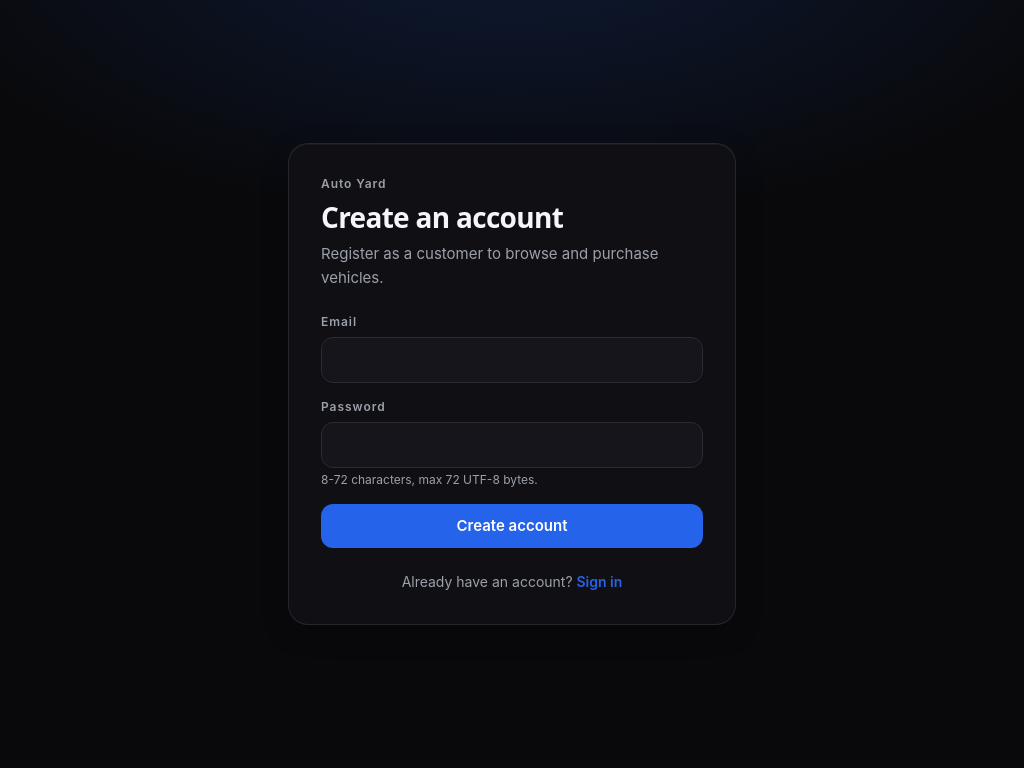
it: RegisterPage › shows the generic server error message and a retry control
Type "test@example.com" into the field labelled "Email" at (512, 360), box [321,337,703,383]
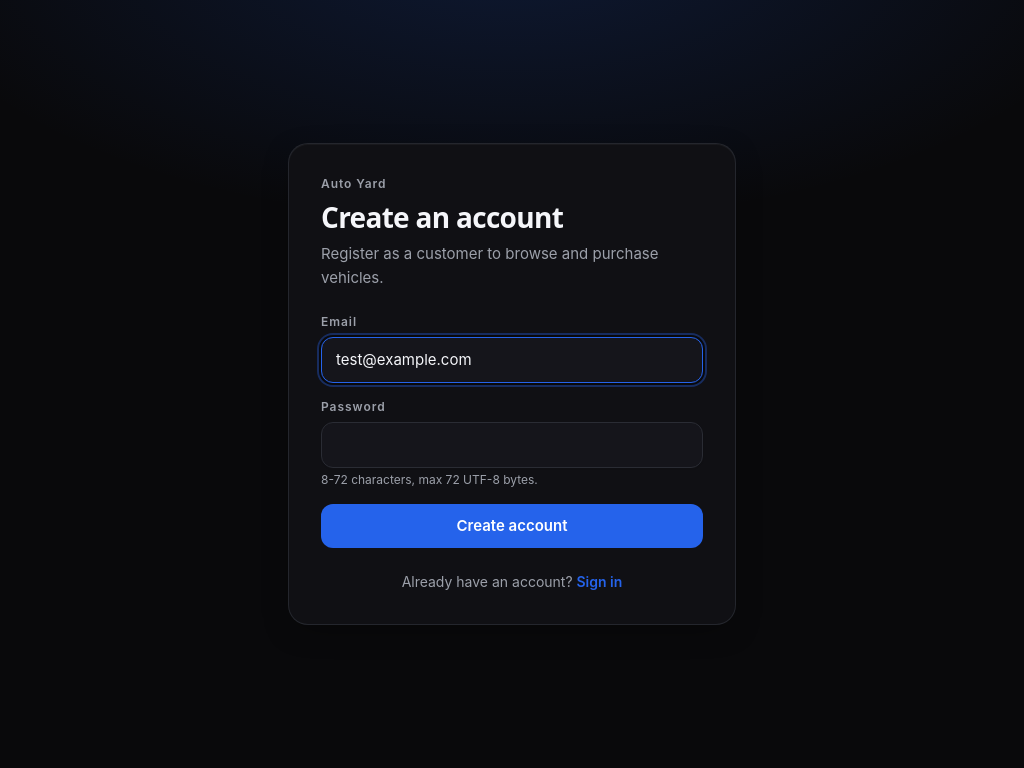
Type "validPassword123" into the password field labelled "Password" at (512, 445), box [321,422,703,468]
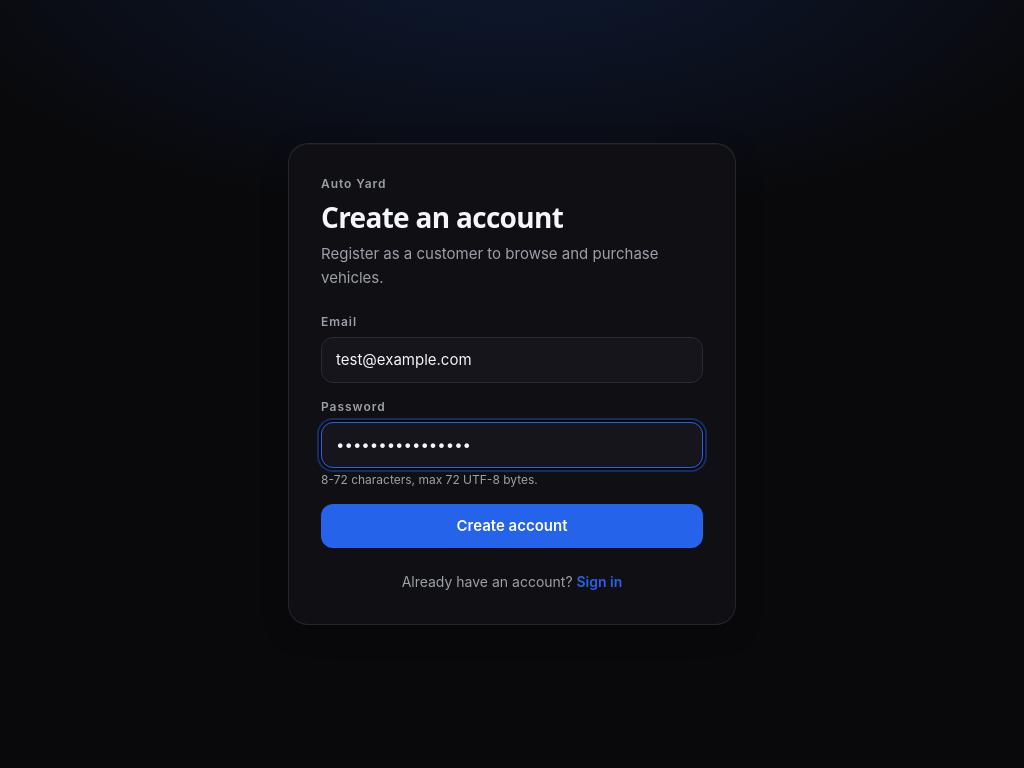
Click the button "Create account" at (512, 526), box [321,504,703,548]
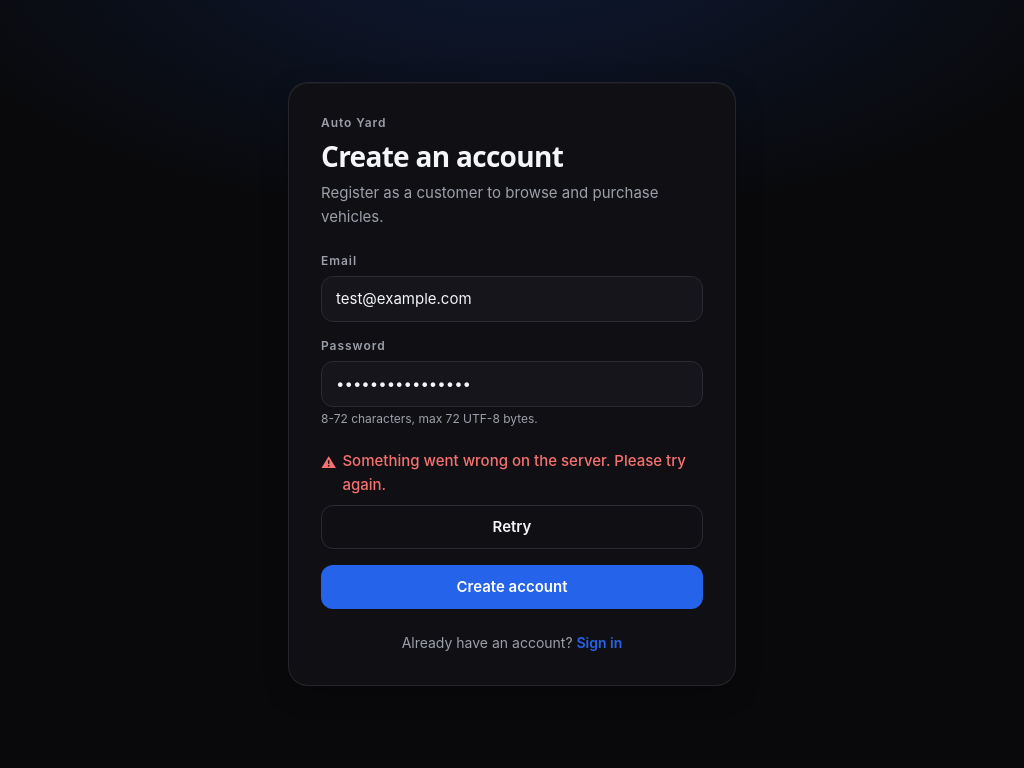
Expected: the text "Something went wrong on the server. Please try again." is shown, [342,449,703,497]
Expected: the button "Retry" is shown, [321,505,703,549]
